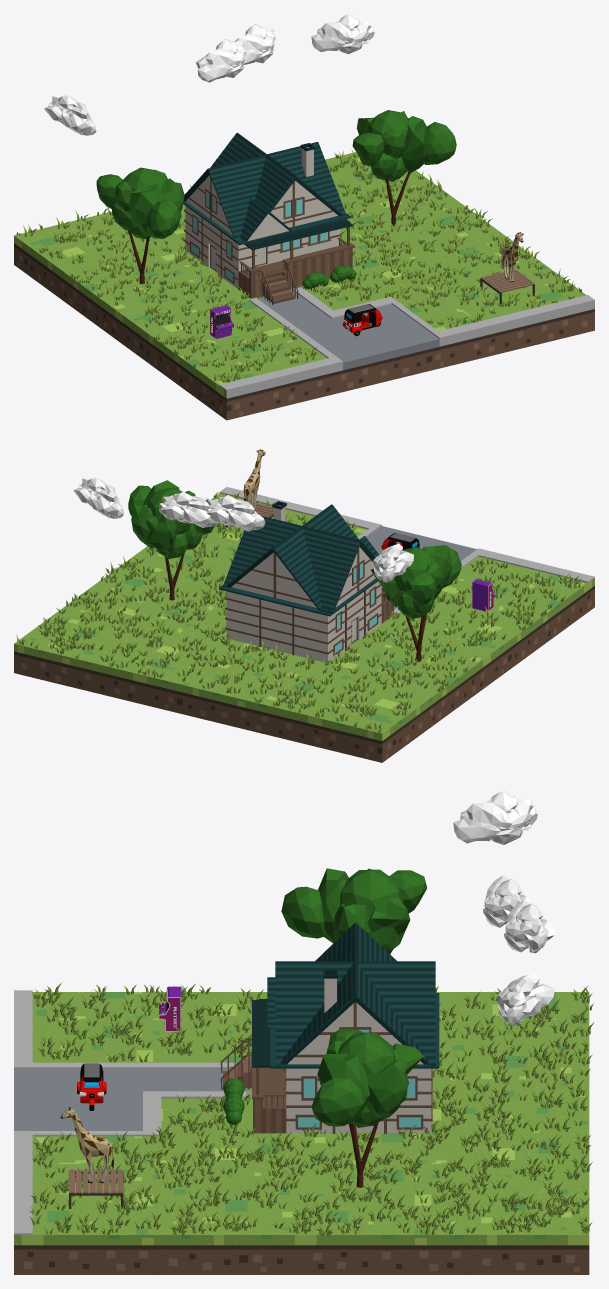
3 views of the same model, one above another, from view 1: azimuth 30°, elevation 25°; view 2: azimuth 150°, elevation 25°; view 3: azimuth 270°, elevation 25° (orthographic). The views are drawn at different scales.
Visible parts, largest first — view 1: Cube.006, Cube.793, Circle.012_Grass_0.192, Cube.007, tree, tree.001, VEHICLES_TUC_TUC, Cube.009, OBJRANDOM_ARCADE, ANIMAL_JIRAFA; view 2: Cube.006, Cube.793, Circle.012_Grass_0.192, Cube.007, tree.001, tree, OBJRANDOM_ARCADE, ANIMAL_JIRAFA, VEHICLES_TUC_TUC; view 3: Cube.006, Circle.012_Grass_0.192, Cube.793, tree, Cube.007, tree.001, Cube.009, ANIMAL_JIRAFA, VEHICLES_TUC_TUC, OBJRANDOM_ARCADE.
Boxes of the visible parts, x1,y1,x2,y2 form: Cube.006: [14, 152, 594, 420]; Cube.793: [183, 133, 355, 304]; Circle.012_Grass_0.192: [16, 149, 581, 382]; Cube.007: [44, 14, 374, 135]; tree: [352, 110, 456, 226]; tree.001: [96, 167, 184, 284]; VEHICLES_TUC_TUC: [342, 304, 382, 336]; Cube.009: [480, 269, 534, 303]; OBJRANDOM_ARCADE: [210, 305, 233, 338]; ANIMAL_JIRAFA: [501, 232, 523, 282]; Cube.006: [14, 487, 594, 762]; Cube.793: [219, 501, 393, 662]; Circle.012_Grass_0.192: [16, 492, 581, 732]; Cube.007: [73, 477, 413, 582]; tree.001: [370, 545, 461, 661]; tree: [128, 480, 214, 600]; OBJRANDOM_ARCADE: [472, 579, 496, 611]; ANIMAL_JIRAFA: [243, 449, 265, 509]; VEHICLES_TUC_TUC: [381, 533, 419, 549]; Cube.006: [14, 990, 589, 1274]; Circle.012_Grass_0.192: [29, 983, 594, 1236]; Cube.793: [220, 923, 439, 1133]; tree: [311, 1028, 423, 1187]; Cube.007: [453, 791, 554, 1025]; tree.001: [281, 868, 426, 954]; Cube.009: [69, 1169, 123, 1208]; ANIMAL_JIRAFA: [60, 1107, 113, 1183]; VEHICLES_TUC_TUC: [77, 1063, 106, 1110]; OBJRANDOM_ARCADE: [158, 986, 181, 1031].
Size of the model in its own units: 4071 by 2179 by 4040.
39 materials, 4 textured.
